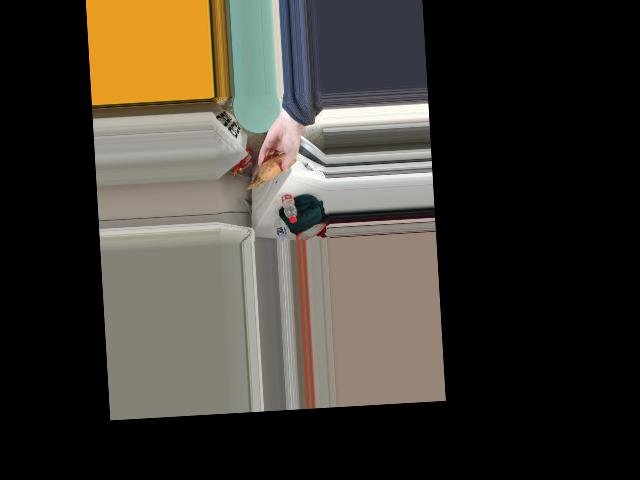sweet_potato: (258, 148, 292, 182)
